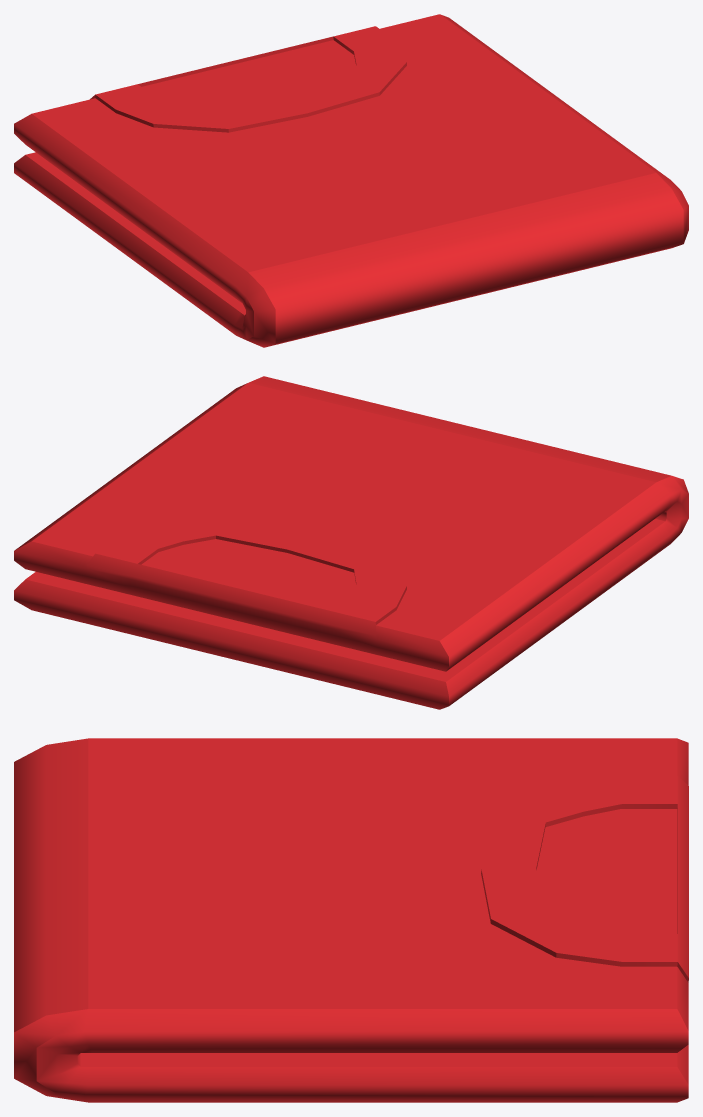
File: MDL_CLRE_folded.fbx
The picture shows the model from 3 angles, top to bottom: view 1: azimuth 30°, elevation 25°; view 2: azimuth 150°, elevation 25°; view 3: azimuth 270°, elevation 25°; orthographic projection. The views are drawn at different scales.
Visible parts, largest first — view 1: MDL_CL_fold.001; view 2: MDL_CL_fold.001; view 3: MDL_CL_fold.001.
Boxes of the visible parts, bbox=[...] form: MDL_CL_fold.001: bbox=[14, 14, 688, 347]; MDL_CL_fold.001: bbox=[14, 376, 688, 709]; MDL_CL_fold.001: bbox=[14, 738, 688, 1102].
Bounding box in the file's own units: 78.18 × 12.43 × 77.31.
